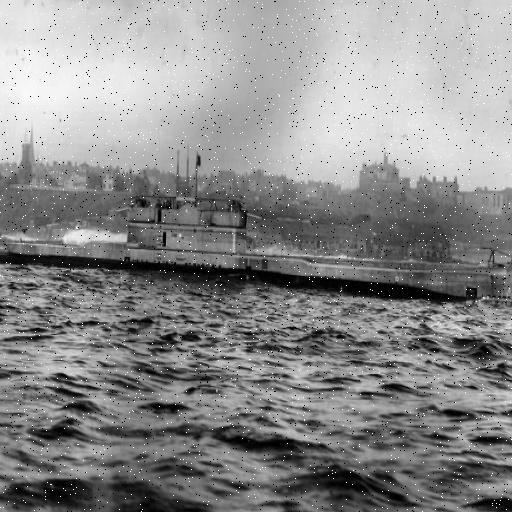submarine: (1, 183, 512, 314)
